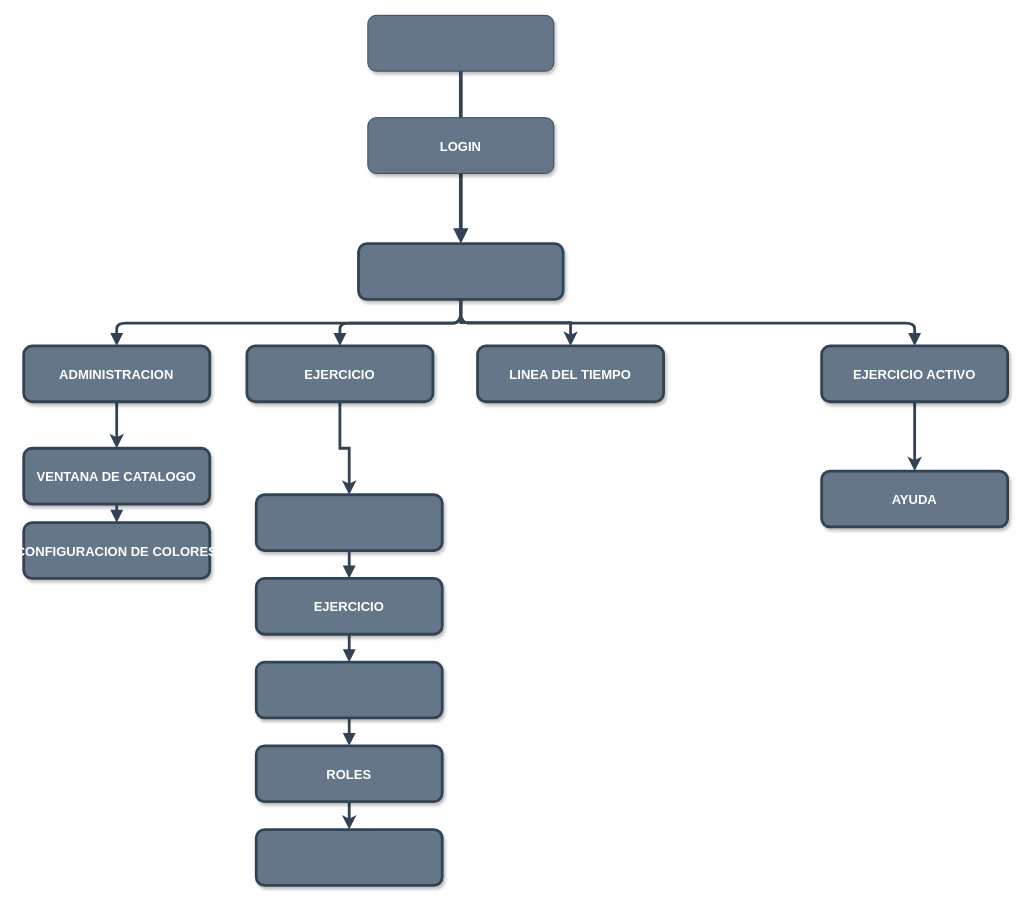
This 1023x900 diagram has some shape labels left out. The centre of each missing label's shape, as x and y in pixels:
"BIENVENIDA" goes at [461,44].
"CONFIGURACION" goes at [350,523].
"ESCENARIO" goes at [350,858].
"MENU PRINCIPAL" goes at [461,272].
"SALAS" goes at [350,691].
